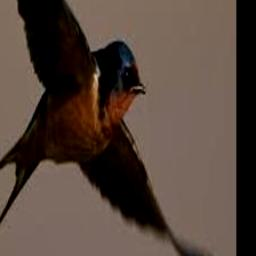Swallow: (0, 0, 217, 256)
